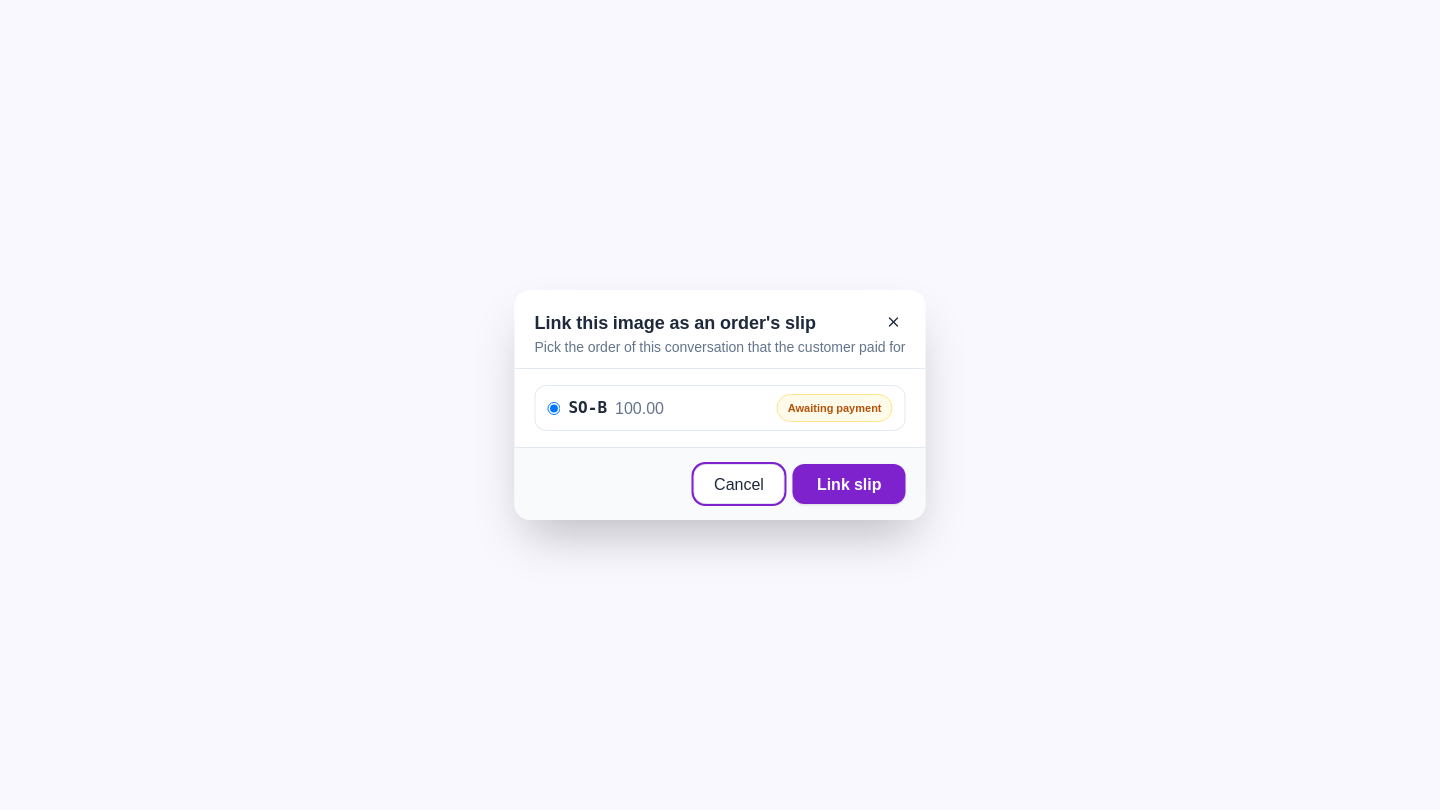
Test: LinkSlipDialog › ລົ້ມ → ຂໍ້ຄວາມ error ໃນ dialog (role=alert) ແລະ ຍັງເປີດ
The image size is (1440, 810).
Check: the radio button labelled "SO-B 100.00 Awaiting payment" is shown, box [548,402,560,414]
Click the button "Link slip" at (849, 484), box [793,464,906,504]
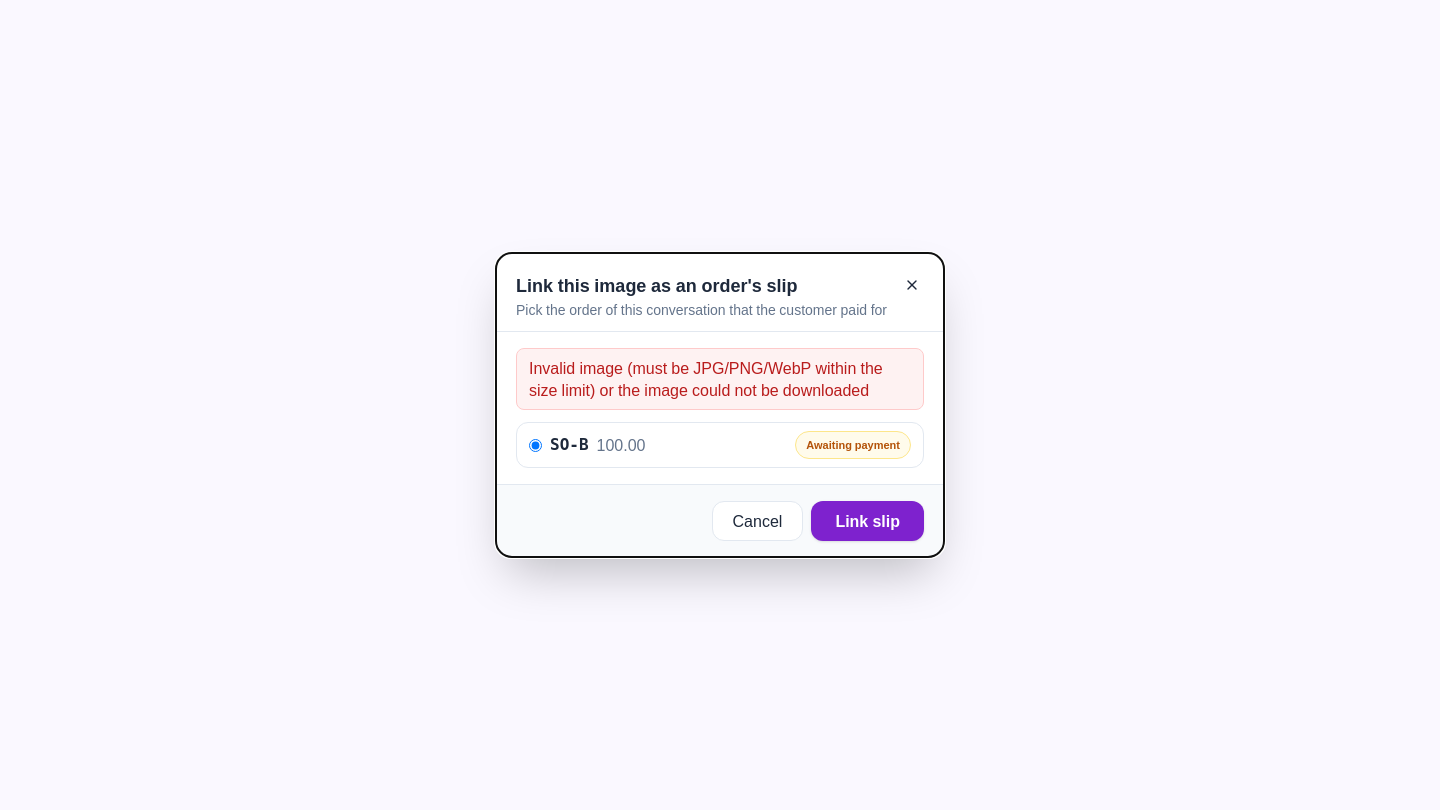
Check: the message shows "Invalid image", box [529,355,883,403]
